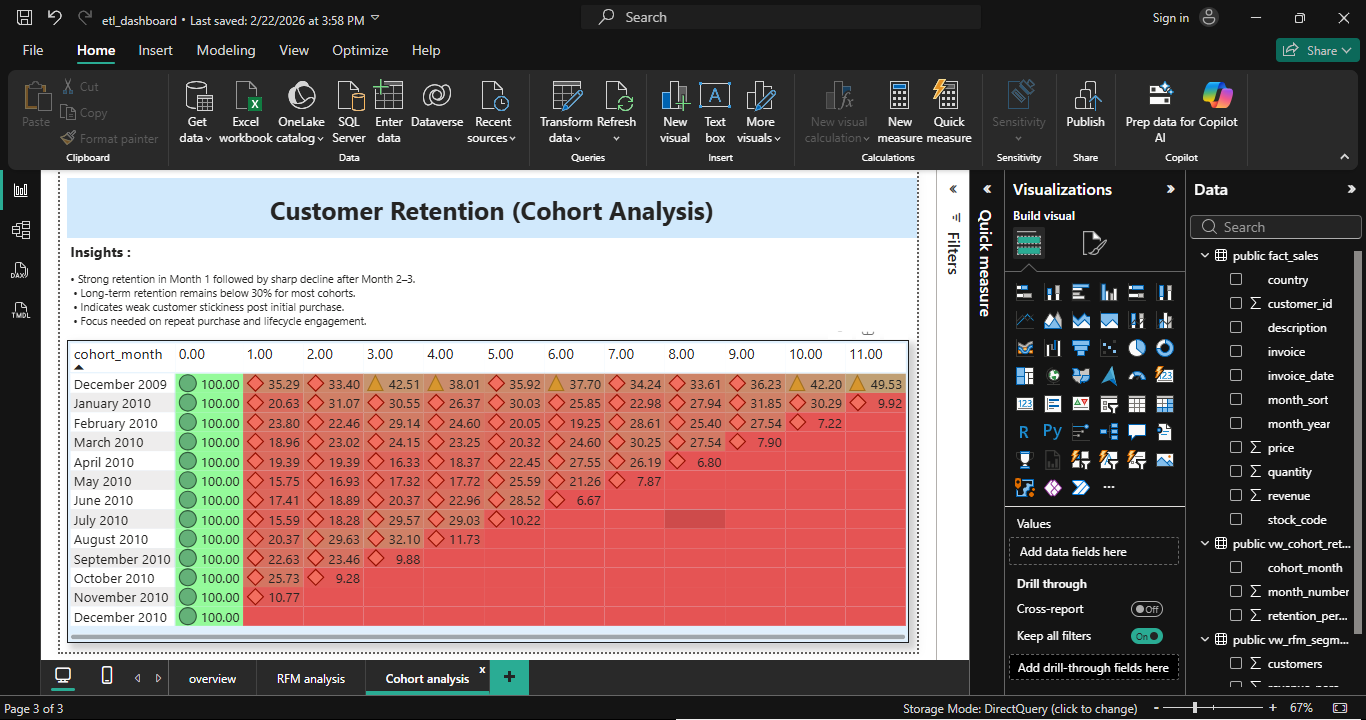

The dashboard page shown, as its layout file describes it:
{"tool":"powerbi","page":{"name":"Cohort analysis","canvas":[1280,720],"ordinal":2},"visuals":[{"type":"pivotTable","fields":{"Rows":["public vw_cohort_retention.cohort_month"],"Values":["Sum(public vw_cohort_retention.retention_percentage)"],"Columns":["public vw_cohort_retention.month_number"]},"box":[10.5,253.9,1257.8,452.6],"z":0},{"type":"textbox","box":[10.5,12,1269.7,89.6],"z":1},{"type":"textbox","box":[10.5,101.6,1269.7,140.4],"z":2}]}

Visuals, with their boxes on the page's 1280x720 design canvas (x1, y1, x2, y2). These are canvas units, not pixel positions in the 1366x720 screenshot, which may show the page scaled, cropped or inside an application window:
pivotTable - public vw_cohort_retention.cohort_month x Sum(public vw_cohort_retention.retention_percentage): left=10, top=254, right=1268, bottom=706
textbox: left=10, top=12, right=1280, bottom=102
textbox: left=10, top=102, right=1280, bottom=242
